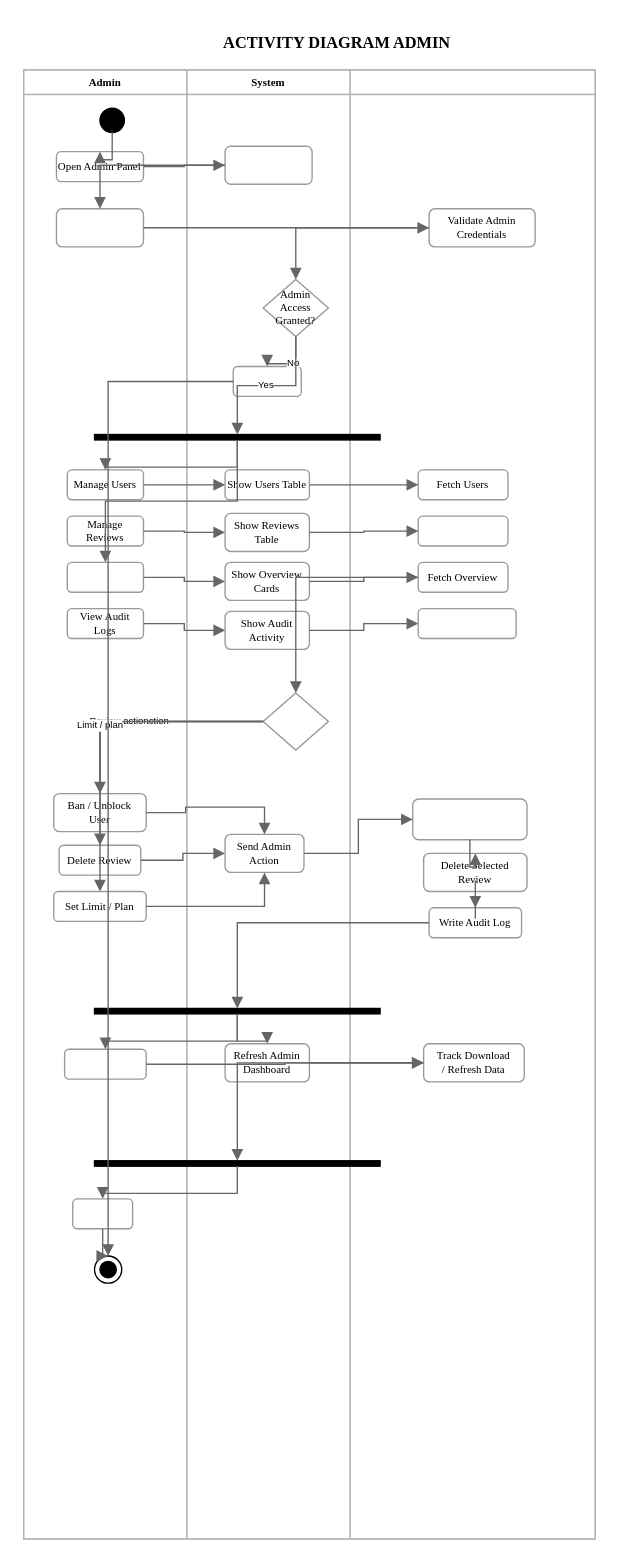
The diagram is 619 pixels wide and 1563 high, and some of its shapes have lost their labels. Each missing label, with the centre of its shape:
"Backend" goes at [472,82].
"Choose Admin Action" goes at [295,721].
"Display Admin Login" goes at [268,164].
"Enter Email and Password" goes at [99,227].
"Export Report" goes at [104,1063].
"Fetch Audit Logs" goes at [466,623].
"Fetch Reviews" goes at [462,530].
"Logout" goes at [102,1213].
"Show Error" goes at [266,380].
"Update User Status / Role / Limit" goes at [469,819].
"View Overview" goes at [104,576].
